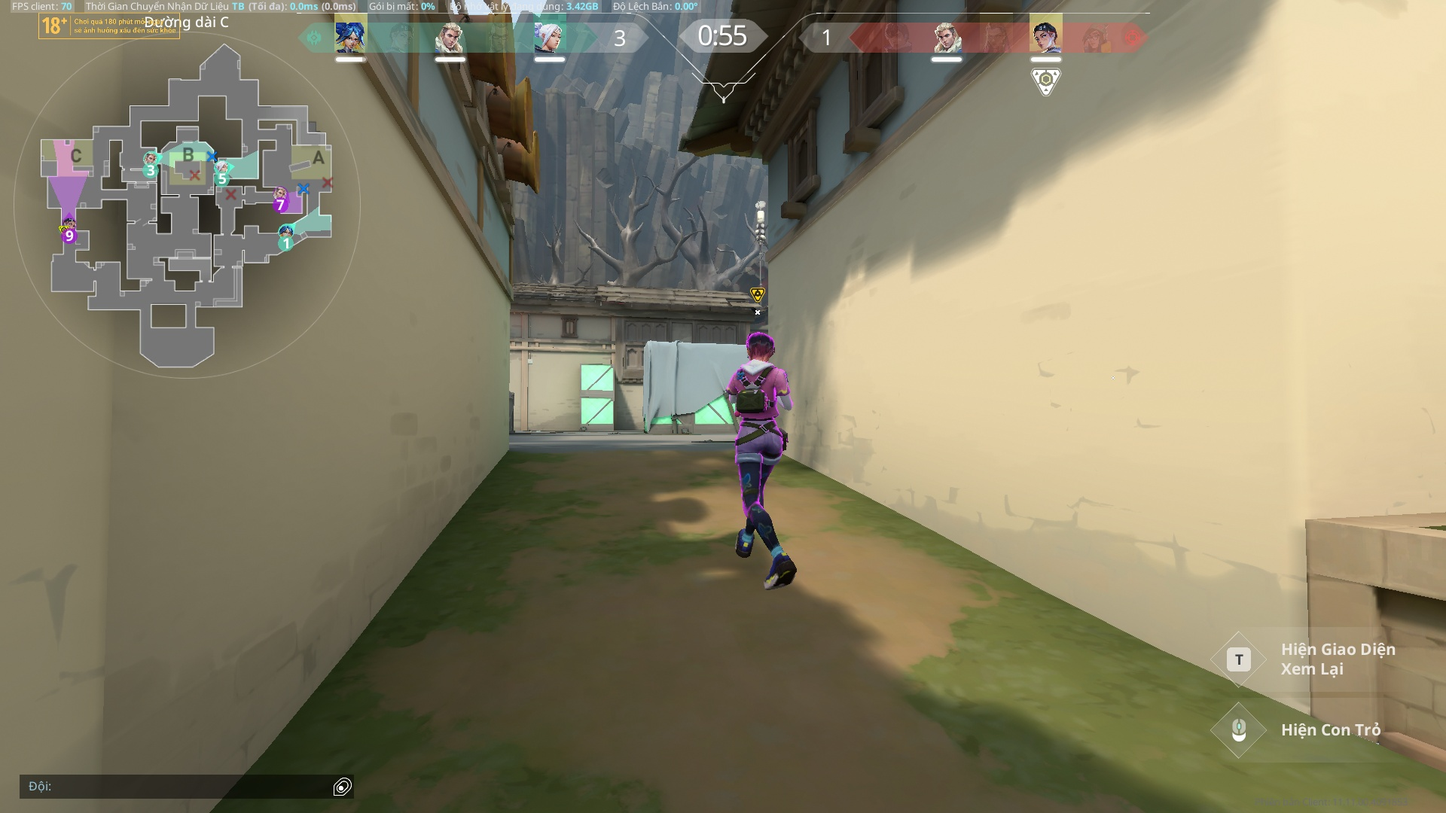body: (731, 362, 782, 416)
head: (744, 330, 778, 364)
